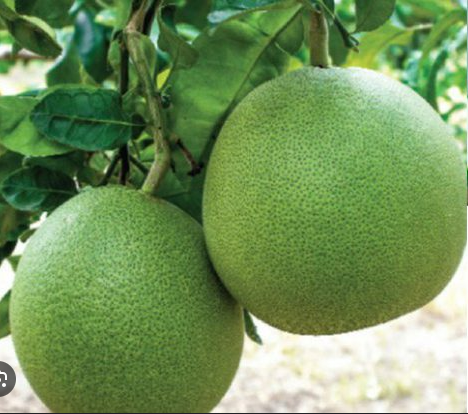buoi: (183, 63, 468, 337), (5, 183, 248, 411)
